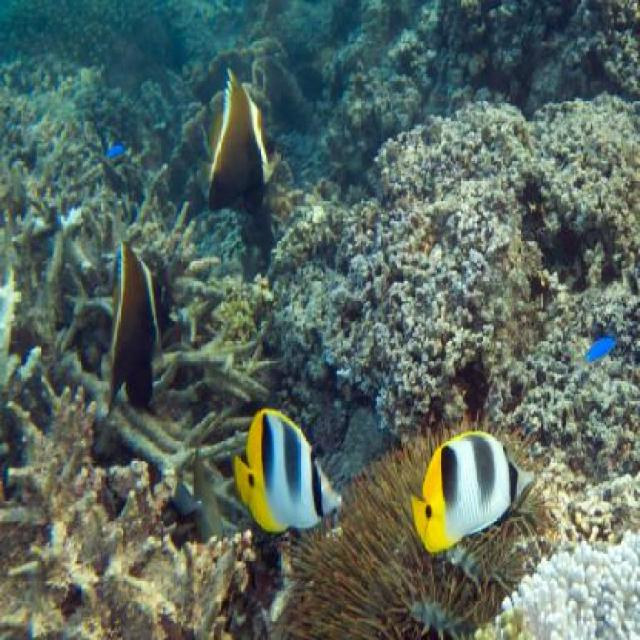ButterflyFish: (412, 434, 538, 553), (234, 409, 345, 533)
